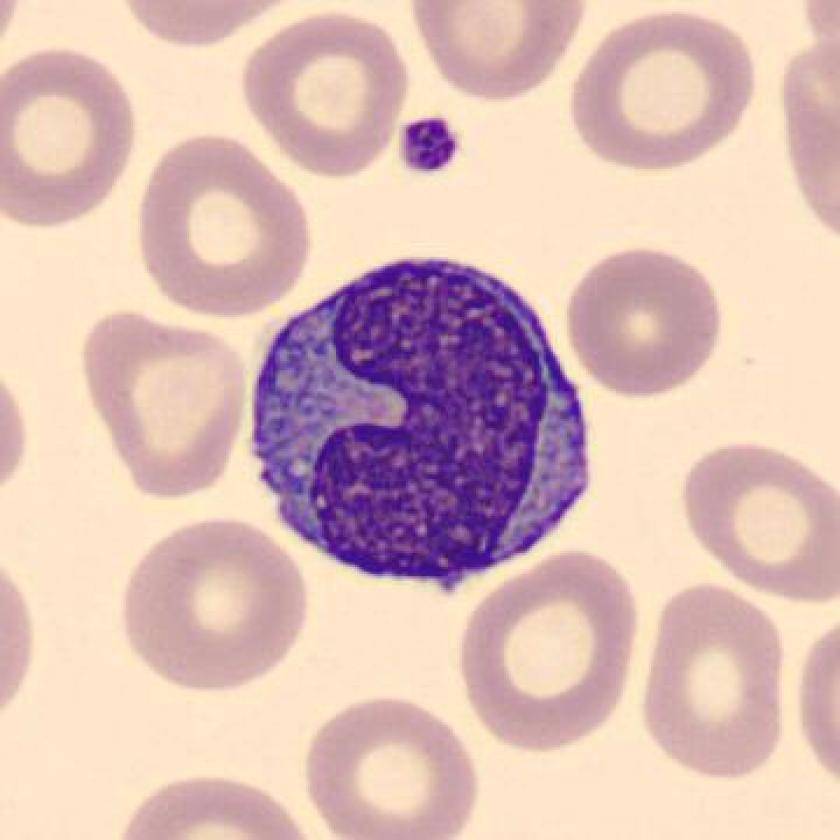monocyte: (242, 239, 613, 612)
